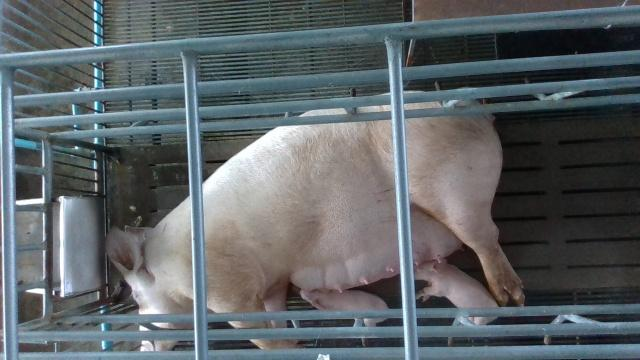piglet: (414, 258, 501, 325), (291, 284, 390, 327)
sow-sleep-lactate: (108, 89, 526, 350)
